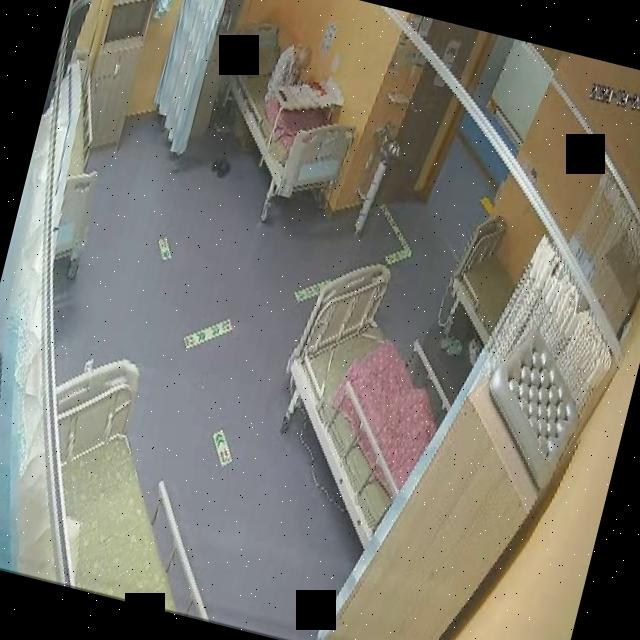bed: (9, 342, 264, 622), (255, 251, 470, 553), (201, 18, 373, 208), (436, 210, 530, 350)
patient: (261, 34, 314, 115)
sit: (260, 34, 315, 116)
